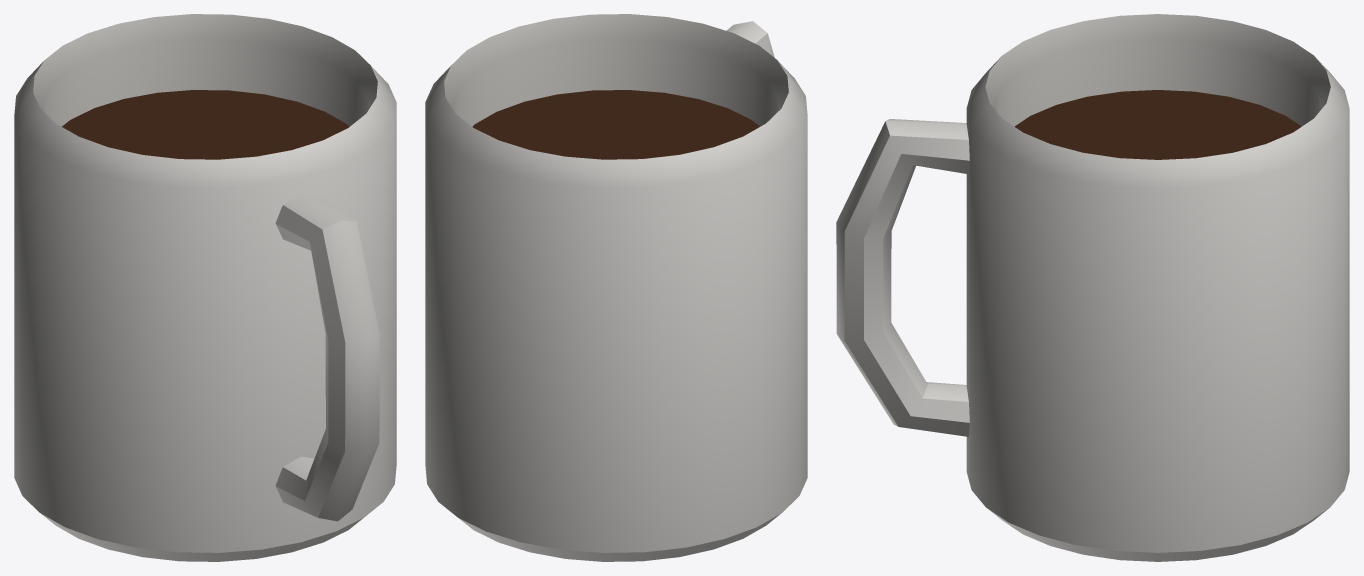
File: mug.glb
3 views of the same model, side by side, from view 1: azimuth 30°, elevation 25°; view 2: azimuth 150°, elevation 25°; view 3: azimuth 270°, elevation 25° (orthographic).
Parts seen in each view (by area): view 1: mug_vc; view 2: mug_vc; view 3: mug_vc.
Boxes of the visible parts, bbox=[...] form: mug_vc: bbox=[14, 14, 396, 561]; mug_vc: bbox=[425, 14, 807, 561]; mug_vc: bbox=[836, 14, 1349, 561].
Bounding box in the file's own units: 0.082 × 0.095 × 0.1099.
